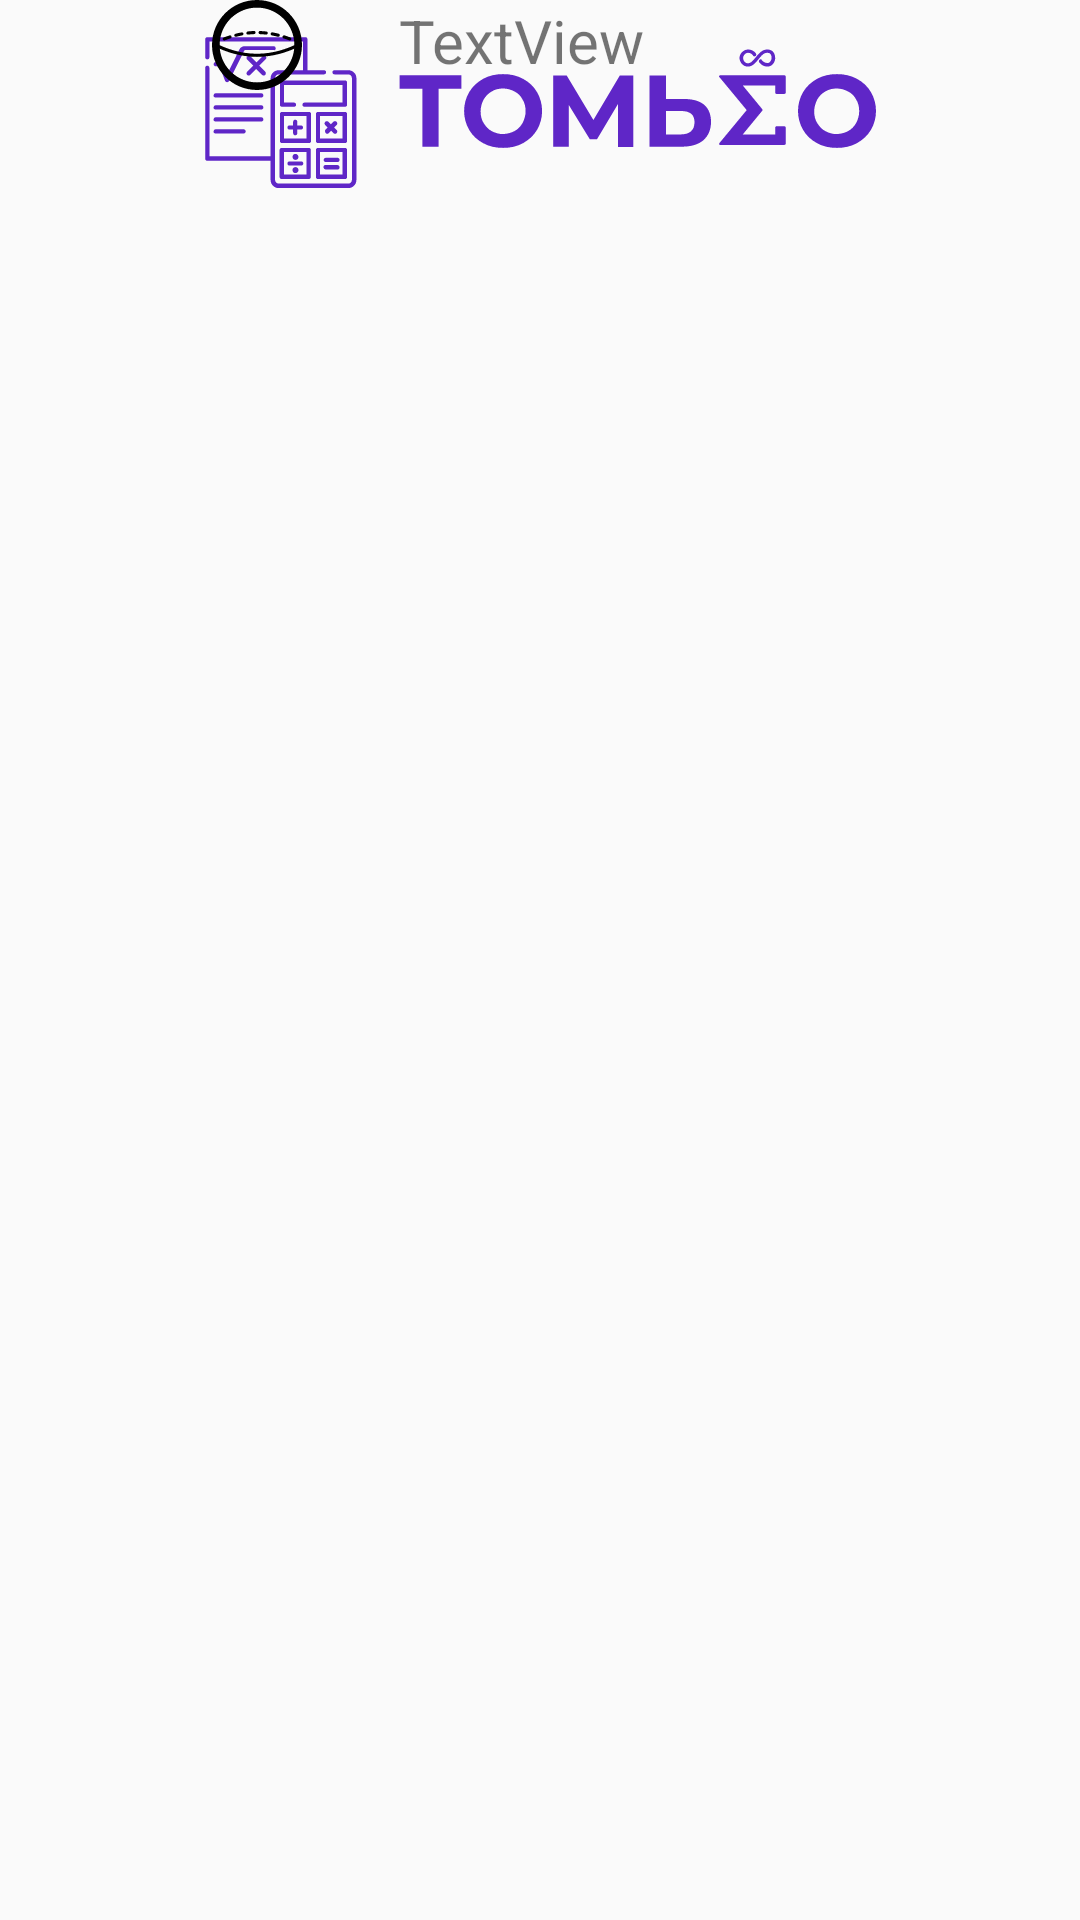

Named icons in this screenshot (1080px×1920px) and their bounding boxes, (x1, y1, x2, y2):
sphere: (212, 0, 302, 90)
